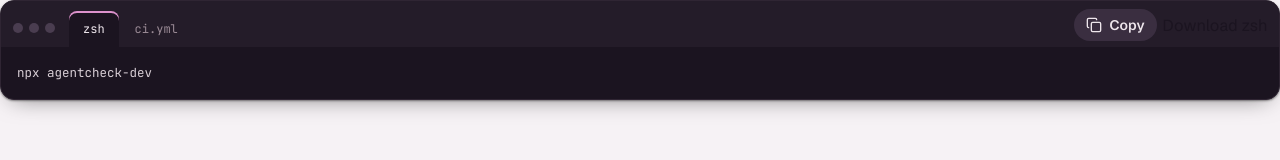
Test: CodeWindow, controlled › renders per-tab actions
Expected: the link "Download ci" is not shown
Click the tab "ci.yml" at (156,29), box [121,11,192,47]
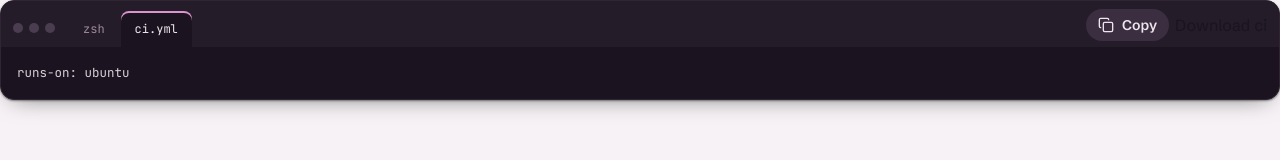
Now the link "Download zsh" is gone
